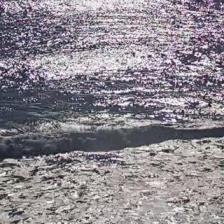surfer: (132, 52, 136, 57)
